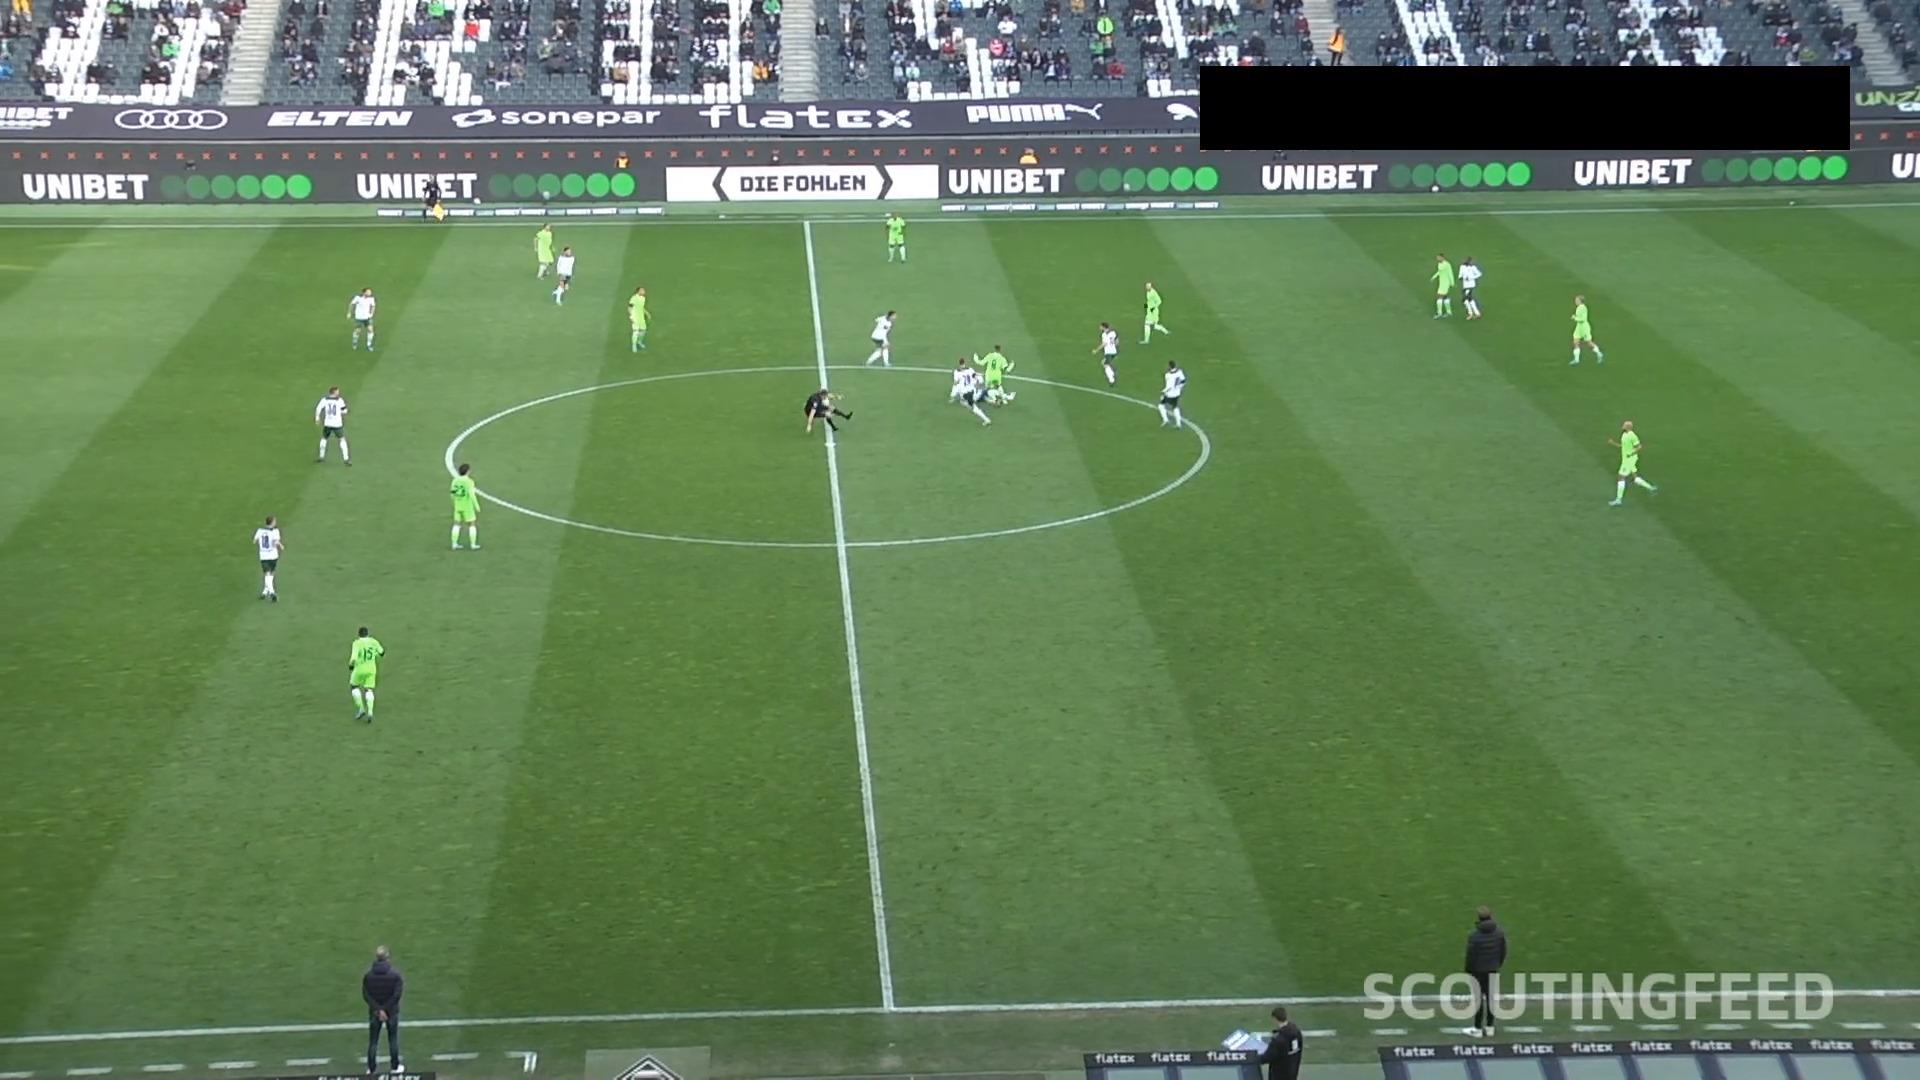coach: (361, 945, 404, 1075), (1255, 1005, 1303, 1078)
player: (1605, 419, 1656, 506), (346, 625, 384, 723), (313, 386, 352, 465), (447, 462, 481, 549), (948, 356, 990, 425), (251, 514, 283, 602), (1567, 293, 1603, 365), (973, 343, 1014, 405), (1156, 359, 1186, 428), (1138, 279, 1169, 344), (346, 286, 376, 351), (864, 309, 896, 366), (1093, 320, 1119, 386), (1428, 252, 1454, 318), (625, 285, 650, 352), (1458, 254, 1482, 320), (551, 245, 575, 305), (948, 356, 976, 405), (533, 221, 554, 279), (883, 211, 906, 263)
referee: (1462, 904, 1506, 1036), (803, 387, 852, 439), (420, 172, 448, 223)
